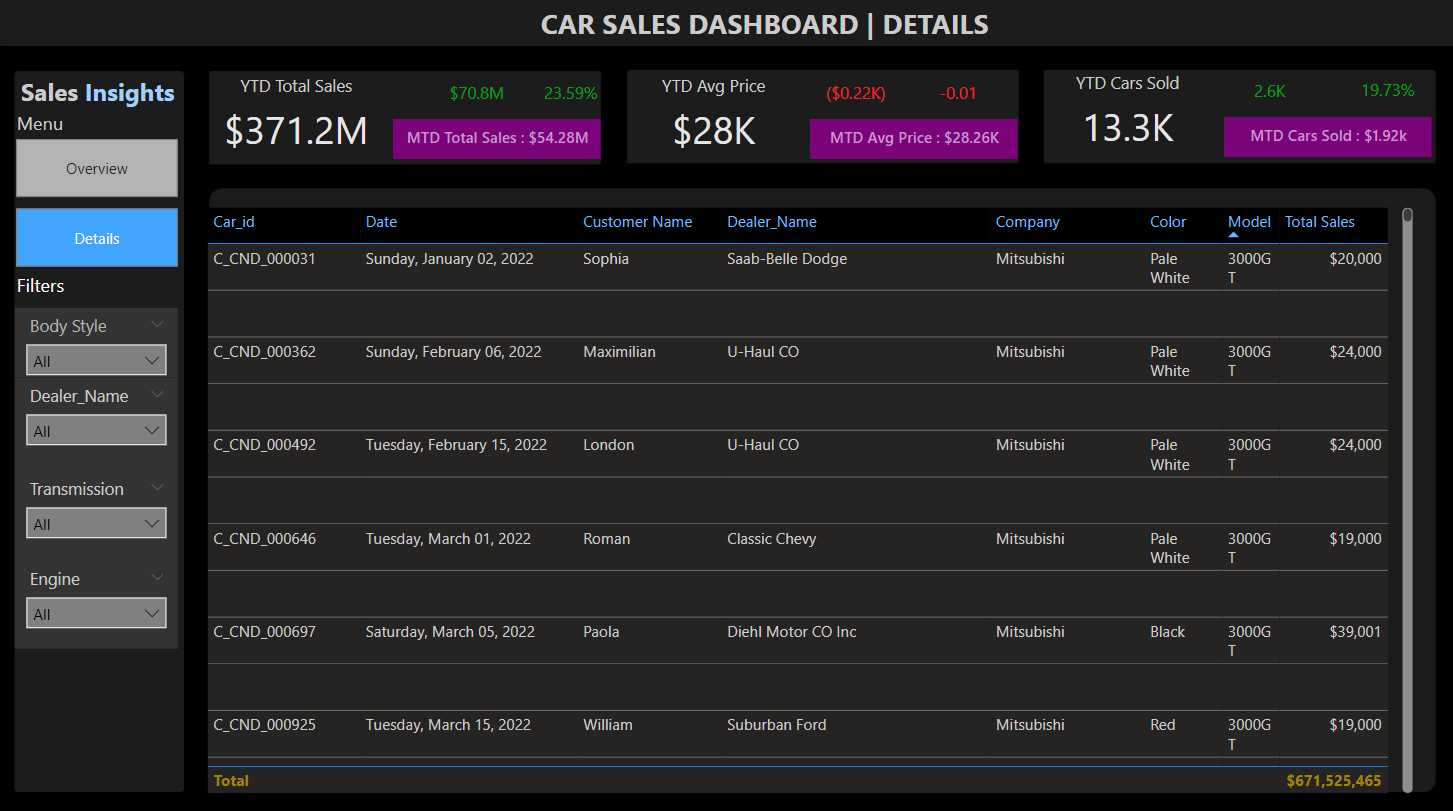

The dashboard page shown, as its layout file describes it:
{"tool":"powerbi","page":{"name":"Details","canvas":[1280,720],"ordinal":1},"visuals":[{"type":"card","title":"YTD Total Sales ","fields":{"Values":["car_data.YTD Total Sales"]},"box":[157.6,66.1,213,77.8],"z":0},{"type":"card","fields":{"Values":["car_data.Sales Difference"]},"box":[370.6,64.2,103.1,39.9],"z":1000},{"type":"card","fields":{"Values":["car_data.YoY Sales Growth"]},"box":[453.3,64.2,103.1,39.9],"z":2000},{"type":"card","fields":{"Values":["car_data.MTD KPI"]},"box":[348.2,105,181.9,35],"z":3000},{"type":"card","title":"YTD Avg Price","fields":{"Values":["car_data.YTD Avg Price"]},"box":[556.4,66.1,146.9,77.8],"z":4000},{"type":"card","fields":{"Values":["car_data.Avg Price Diff"]},"box":[703.2,64.2,103.1,39.9],"z":5000},{"type":"card","fields":{"Values":["car_data.YoY Avg Price Growth"]},"box":[792.9,64.1,103.6,40.4],"z":6000},{"type":"card","fields":{"Values":["car_data.MTD Avg Price KPI"]},"box":[714.7,105.4,181.8,35.1],"z":7000},{"type":"card","title":"YTD Cars Sold","fields":{"Values":["car_data.YTD Cars Sold"]},"box":[920.1,63.2,146.9,77.8],"z":8000},{"type":"card","fields":{"Values":["car_data.Cars Sold Diff"]},"box":[1067,62.2,103.1,39.9],"z":9000},{"type":"card","fields":{"Values":["car_data.YoY Cars Sold Growth"]},"box":[1170.1,61.3,103.1,39.9],"z":10000},{"type":"card","fields":{"Values":["car_data.MTD Cars Sold KPI"]},"box":[1078.2,103.6,181.8,35.1],"z":11000},{"type":"textbox","box":[473.3,0,403.9,50],"z":12000},{"type":"slicer","fields":{"Values":["car_data.Body Style"]},"box":[16.7,271.3,143.1,61.5],"z":13000},{"type":"slicer","fields":{"Values":["car_data.Dealer_Name"]},"box":[16.7,332.8,143.1,81.7],"z":14000},{"type":"slicer","fields":{"Values":["car_data.Transmission"]},"box":[16.7,414.4,143.1,79],"z":15000},{"type":"slicer","fields":{"Values":["car_data.Engine"]},"box":[16.7,493.5,143.1,77.3],"z":16000},{"type":"textbox","box":[13.2,235.3,150.1,36],"z":17000},{"type":"textbox","box":[16.7,61.5,154.5,39.5],"z":18000},{"type":"textbox","box":[13.2,93.1,150.1,150.1],"z":19000},{"type":"tableEx","fields":{"Values":["car_data.Car_id","car_data.Date","car_data.Customer Name","car_data.Dealer_Name","car_data.Company","car_data.Color","car_data.Model","car_data.Price ($)"]},"box":[180,178.2,1069.5,524.2],"z":20000},{"type":"pageNavigator","box":[17.6,122.9,142.2,112.4],"z":21000}]}

Visuals, with their boxes on the page's 1280x720 design canvas (x1, y1, x2, y2). These are canvas units, not pixel positions in the 1453x811 screenshot, which may show the page scaled, cropped or inside an application window:
"YTD Total Sales " card: box=[158, 66, 371, 144]
card - car_data.Sales Difference: box=[371, 64, 474, 104]
card - car_data.YoY Sales Growth: box=[453, 64, 556, 104]
card - car_data.MTD KPI: box=[348, 105, 530, 140]
"YTD Avg Price" card: box=[556, 66, 703, 144]
card - car_data.Avg Price Diff: box=[703, 64, 806, 104]
card - car_data.YoY Avg Price Growth: box=[793, 64, 896, 104]
card - car_data.MTD Avg Price KPI: box=[715, 105, 896, 140]
"YTD Cars Sold" card: box=[920, 63, 1067, 141]
card - car_data.Cars Sold Diff: box=[1067, 62, 1170, 102]
card - car_data.YoY Cars Sold Growth: box=[1170, 61, 1273, 101]
card - car_data.MTD Cars Sold KPI: box=[1078, 104, 1260, 139]
textbox: box=[473, 0, 877, 50]
slicer - car_data.Body Style: box=[17, 271, 160, 333]
slicer - car_data.Dealer_Name: box=[17, 333, 160, 414]
slicer - car_data.Transmission: box=[17, 414, 160, 493]
slicer - car_data.Engine: box=[17, 494, 160, 571]
textbox: box=[13, 235, 163, 271]
textbox: box=[17, 62, 171, 101]
textbox: box=[13, 93, 163, 243]
tableEx - car_data.Car_id x car_data.Date: box=[180, 178, 1250, 702]
pageNavigator: box=[18, 123, 160, 235]
